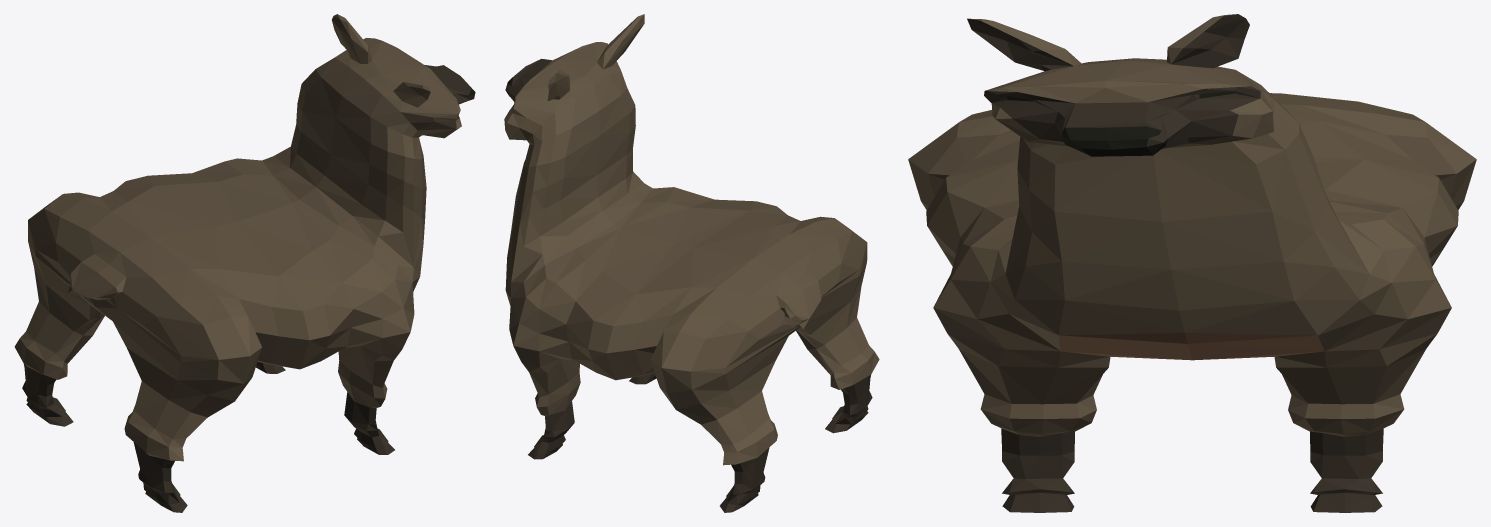
File: alpaca.glb
The picture shows the model from 3 angles, left to right: view 1: azimuth 30°, elevation 25°; view 2: azimuth 150°, elevation 25°; view 3: azimuth 270°, elevation 25°; orthographic projection. The views are drawn at different scales.
Bounding box in the file's own units: 1 × 1 × 1.
